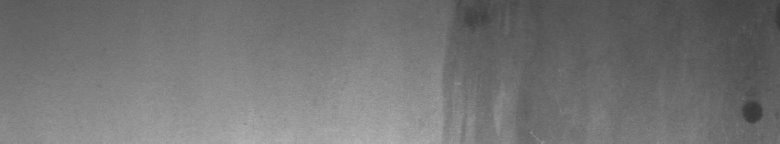fi: (736, 96, 776, 135)
